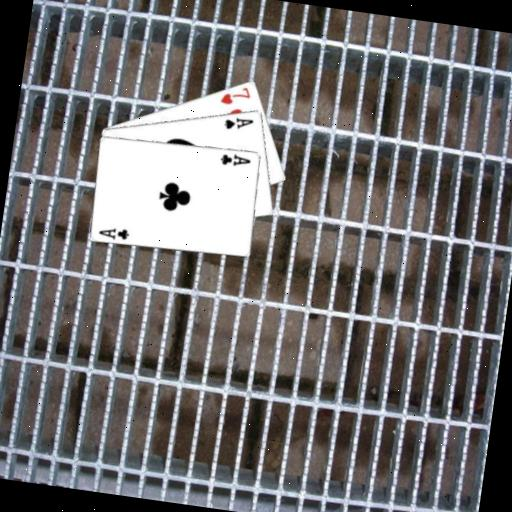7H: (217, 81, 254, 109)
AC: (218, 149, 254, 170), (96, 222, 132, 243)
AS: (221, 112, 256, 133)
